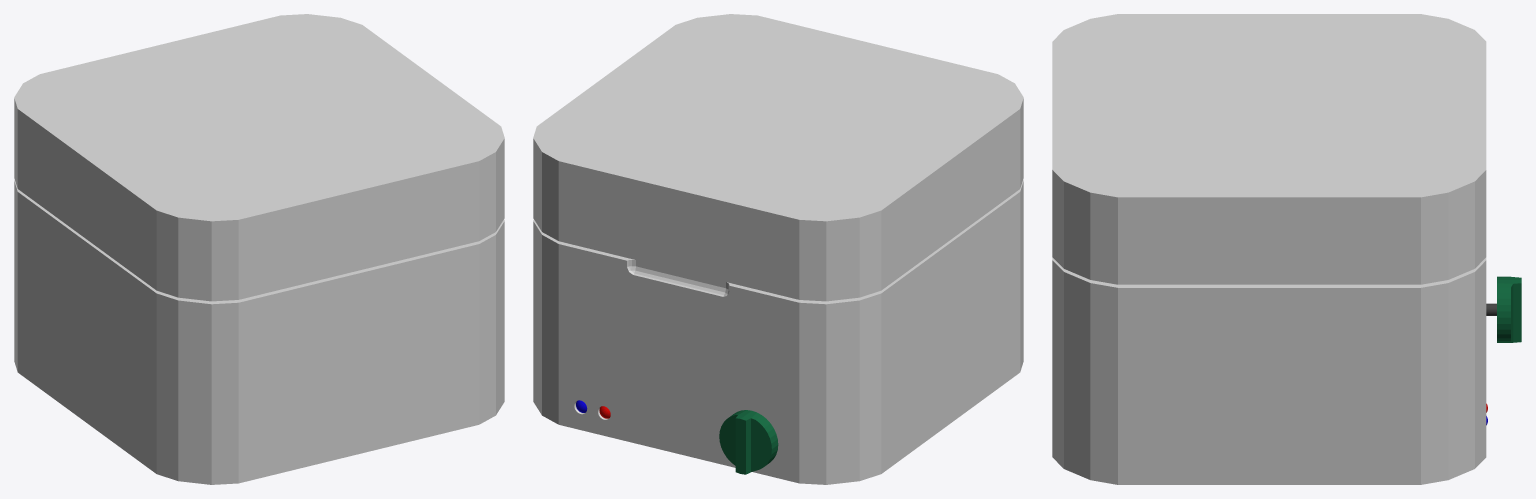
Rendered from giraProvette.fbx.
3 views of the same model, side by side, from view 1: azimuth 30°, elevation 25°; view 2: azimuth 150°, elevation 25°; view 3: azimuth 270°, elevation 25° (orthographic). The views are drawn at different scales.
Parts seen in each view (by area): view 1: Cube, Cube.001; view 2: Cube, Cube.001, Cylinder.003; view 3: Cube, Cube.001, Cylinder.003.
Part boxes in pixels (x1,y1,x2,y2): Cube: (14, 14, 504, 301); Cube.001: (14, 180, 504, 484); Cube: (533, 14, 1023, 301); Cube.001: (533, 180, 1023, 484); Cylinder.003: (719, 410, 778, 474); Cube: (1052, 14, 1486, 284); Cube.001: (1052, 257, 1487, 484); Cylinder.003: (1486, 276, 1521, 342).
Bounding box in the file's own units: 776 × 567 × 839.
